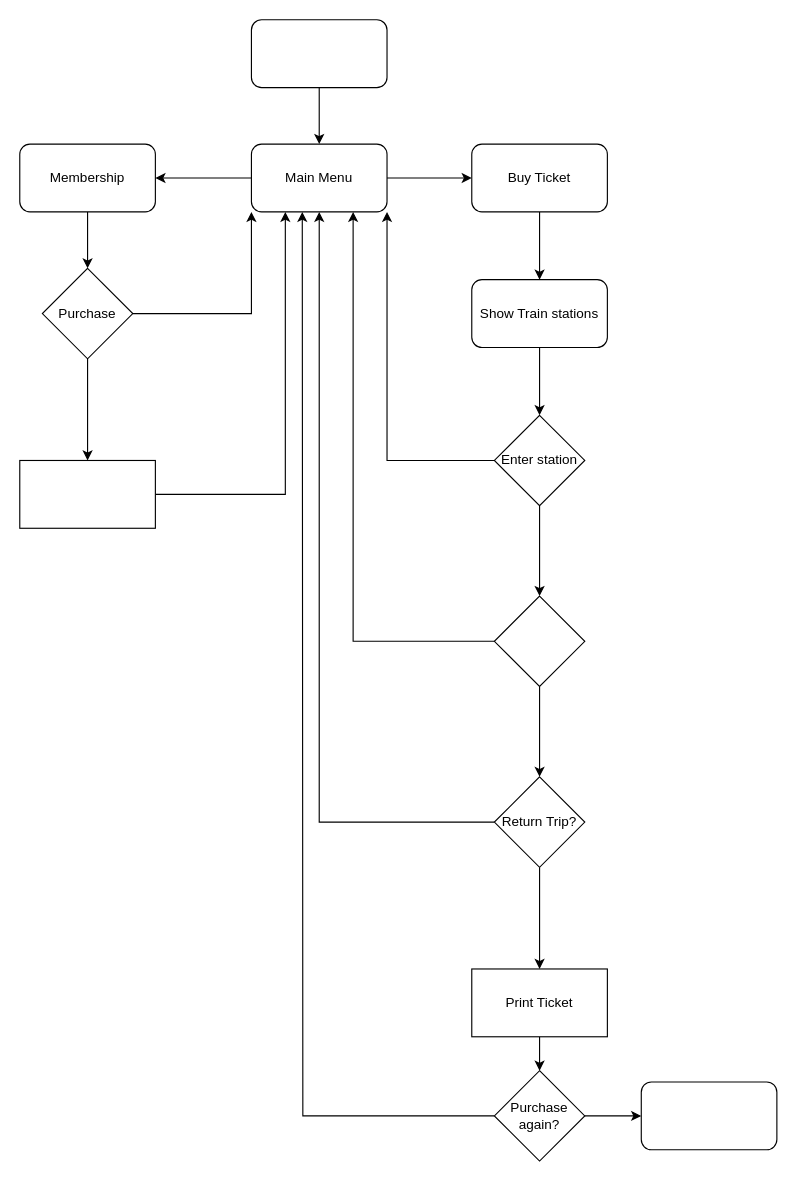
The diagram is 797 pixels wide and 1181 high, and some of its shapes have lost their labels. The centre of each missing label's shape, as x and y in pixels:
Exit Program: the point at 708,1115
Purchase count?: the point at 539,640
Remember membership status: the point at 87,493
Start: the point at 318,53
